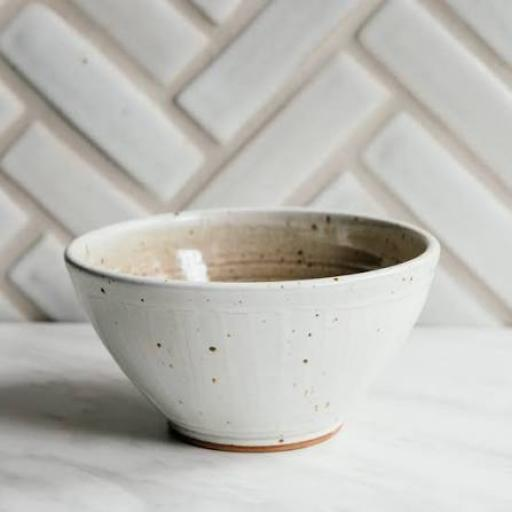Bowl: (66, 208, 439, 451)
